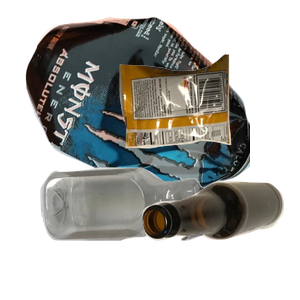glass: (140, 179, 300, 300)
metal: (23, 15, 263, 195)
plastic: (38, 165, 255, 300)
trash: (117, 52, 300, 193)
